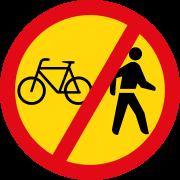Pedestrian Prohibited: (6, 9, 159, 176)
